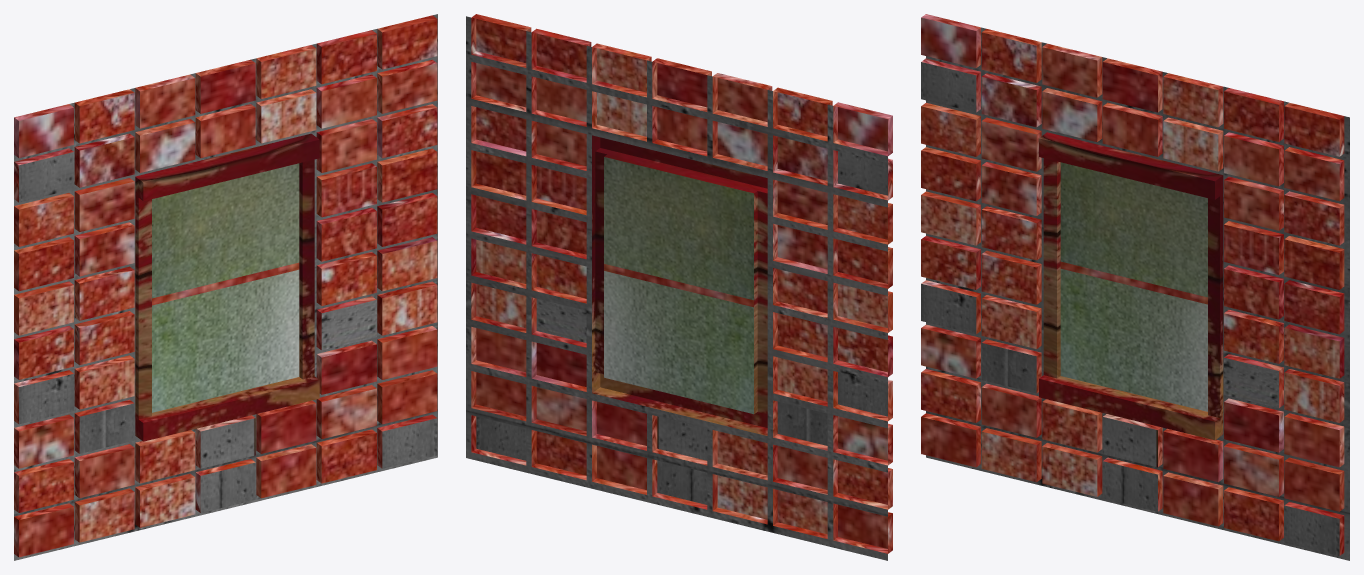
The model's file is Pared_014.fbx.
3 renders of one model, left to right at view 1: azimuth 30°, elevation 25°; view 2: azimuth 150°, elevation 25°; view 3: azimuth 330°, elevation 25°, orthographic.
Visible parts, largest first — view 1: Plane; view 2: Plane; view 3: Plane.
Boxes of the visible parts, bbox=[...] form: Plane: bbox=[14, 14, 437, 560]; Plane: bbox=[466, 14, 892, 560]; Plane: bbox=[921, 14, 1349, 560].
Bounding box in the file's own units: 600 × 600 × 20.29.
